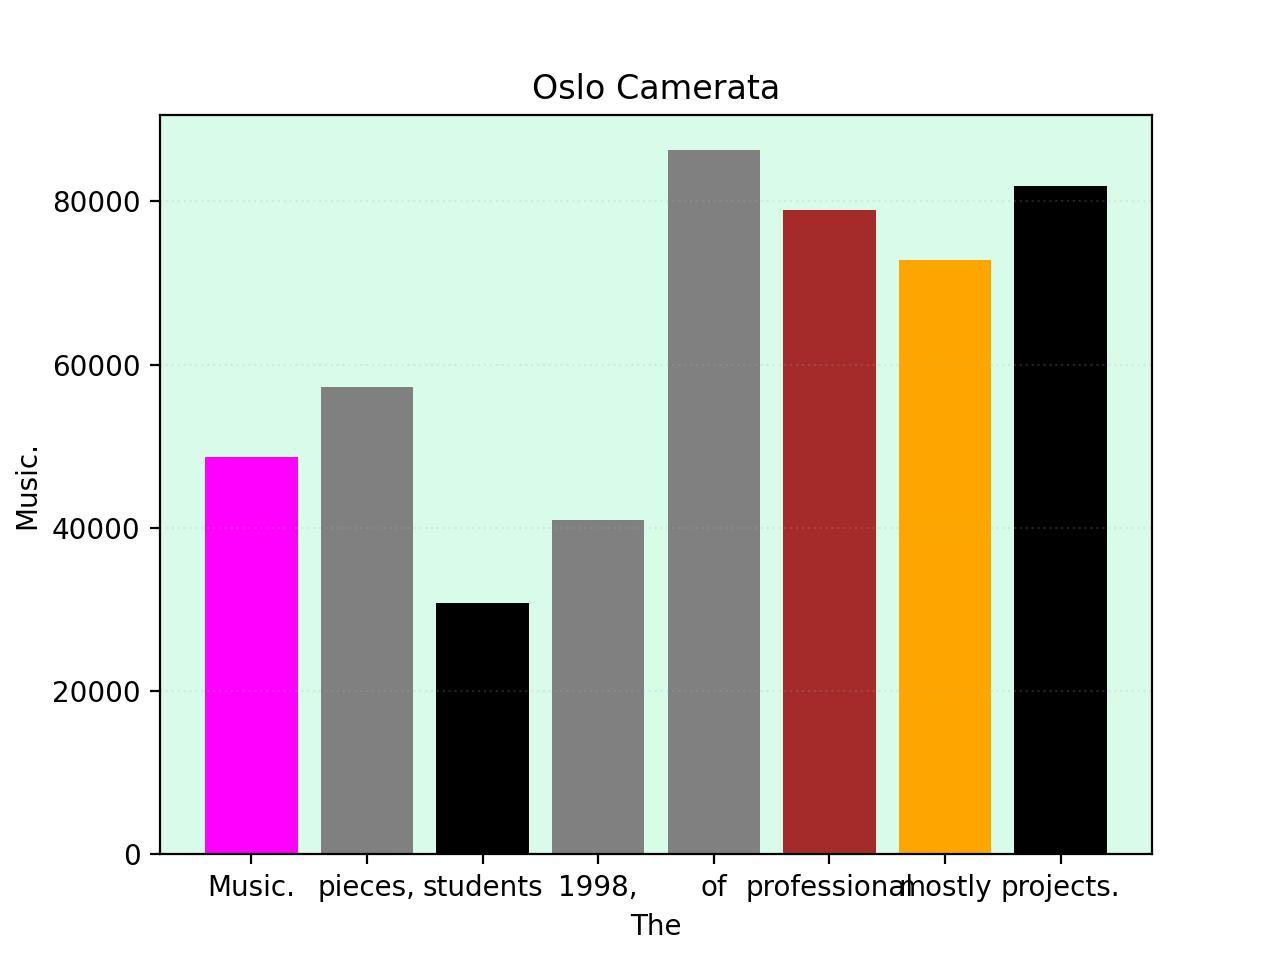axis: (12, 191, 140, 871)
rectangle: (668, 150, 760, 854), (1015, 187, 1107, 854), (783, 210, 876, 854), (899, 260, 991, 854), (321, 386, 413, 854), (206, 458, 297, 854), (552, 519, 644, 854), (436, 602, 528, 854)
